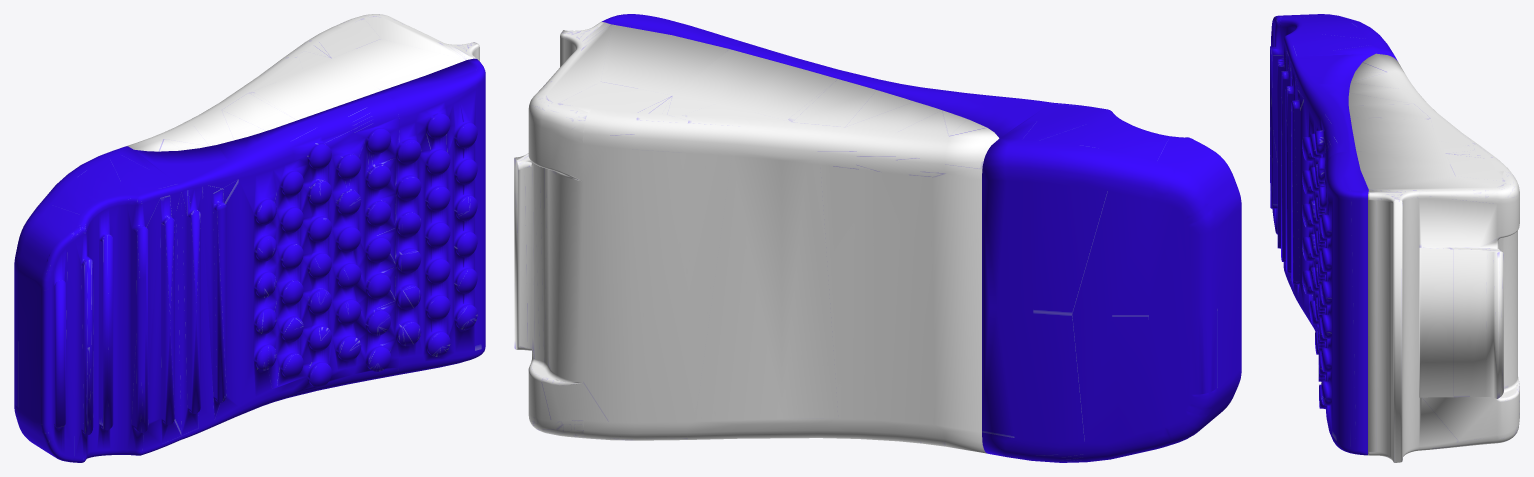
Rendered from left_finger_dist_link.dae.
3 views of the same model, side by side, from view 1: azimuth 30°, elevation 25°; view 2: azimuth 150°, elevation 25°; view 3: azimuth 270°, elevation 25° (orthographic). The views are drawn at different scales.
Parts seen in each view (by area): view 1: left_finger_dist_link; view 2: left_finger_dist_link; view 3: left_finger_dist_link.
Boxes of the visible parts, left/top/right/bottom form: left_finger_dist_link: left=14, top=14, right=485, bottom=462; left_finger_dist_link: left=514, top=14, right=1241, bottom=462; left_finger_dist_link: left=1270, top=14, right=1519, bottom=462.
Bounding box in the file's own units: 0.0435 × 0.0204 × 0.0236.
1 material, 1 textured.
